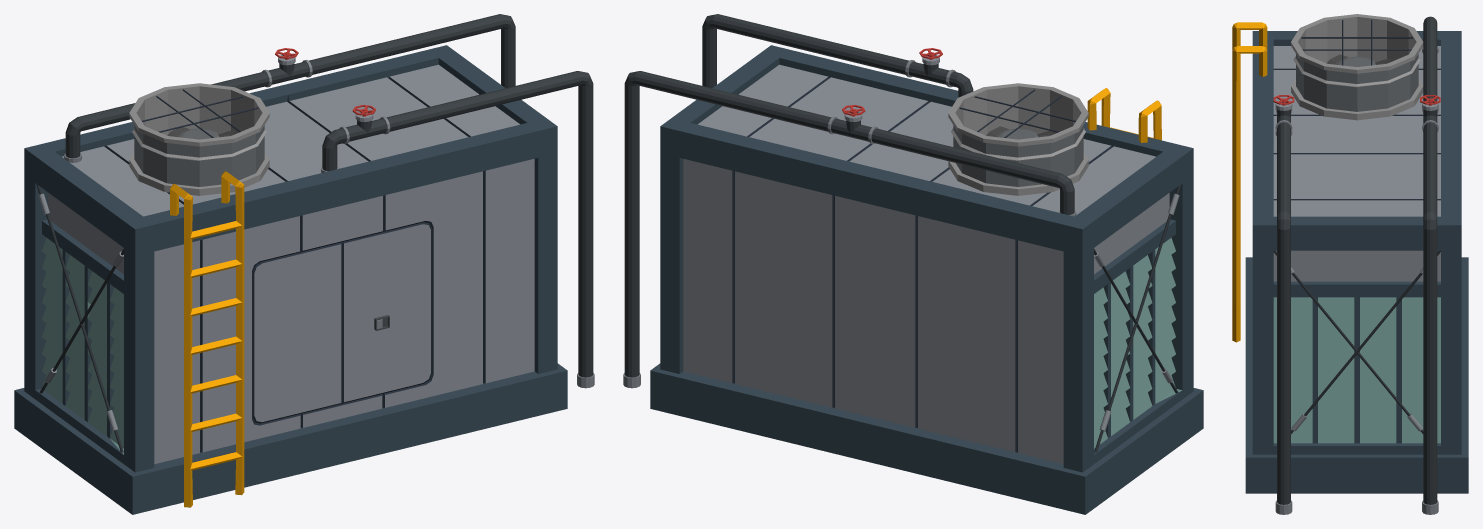
Rendered from SM_BuildingsDecor_23.fbx.
3 renders of one model, left to right at view 1: azimuth 30°, elevation 25°; view 2: azimuth 150°, elevation 25°; view 3: azimuth 270°, elevation 25°, orthographic. The views are drawn at different scales.
Visible parts, largest first — view 1: SM_BuildingsDecor_23; view 2: SM_BuildingsDecor_23; view 3: SM_BuildingsDecor_23.
Part boxes in pixels (bbox=[...]): SM_BuildingsDecor_23: bbox=[14, 14, 594, 514]; SM_BuildingsDecor_23: bbox=[623, 14, 1203, 514]; SM_BuildingsDecor_23: bbox=[1232, 14, 1468, 514].
Bounding box in the file's own units: 3.76 × 2.45 × 1.7.
